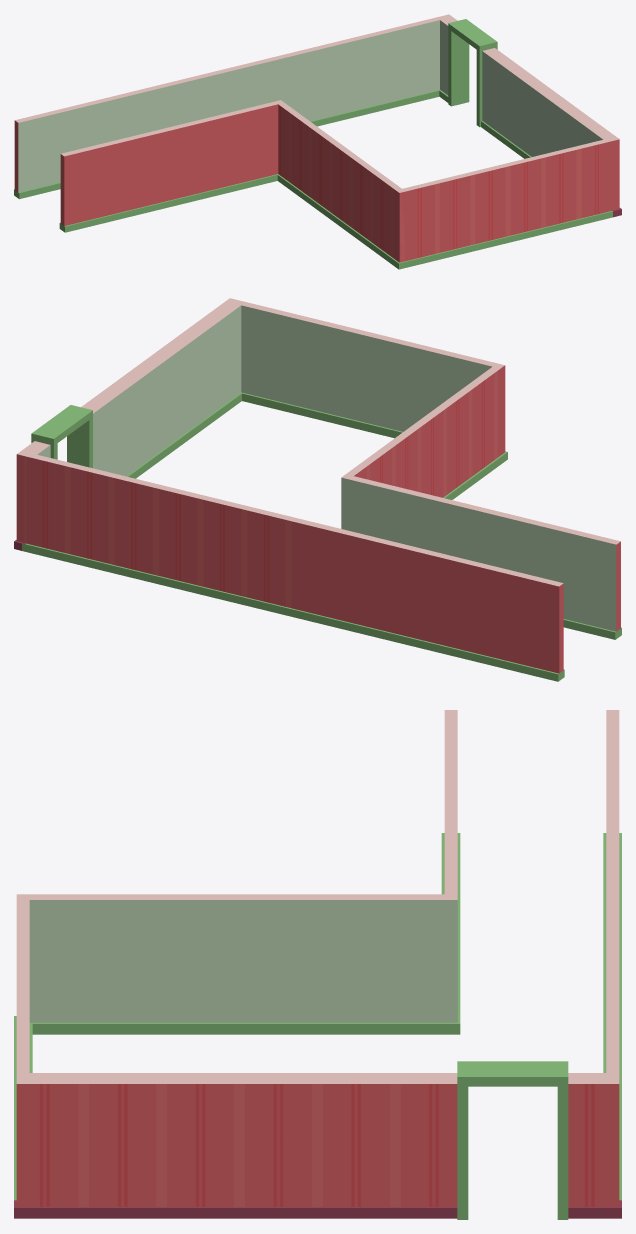
The model's file is Map_bs_Storage02_Wall_geo.fbx.
The picture shows the model from 3 angles, top to bottom: view 1: azimuth 30°, elevation 25°; view 2: azimuth 150°, elevation 25°; view 3: azimuth 270°, elevation 25°; orthographic projection. The views are drawn at different scales.
Visible parts, largest first — view 1: Map_bs_Storage02_Wall_geo; view 2: Map_bs_Storage02_Wall_geo; view 3: Map_bs_Storage02_Wall_geo.
Part boxes in pixels (x1=…): Map_bs_Storage02_Wall_geo: x1=14, y1=14, x2=621, y2=269; Map_bs_Storage02_Wall_geo: x1=14, y1=298, x2=621, y2=681; Map_bs_Storage02_Wall_geo: x1=14, y1=710, x2=621, y2=1219.
Bounding box in the file's own units: 12.31 × 8.41 × 2.18.
